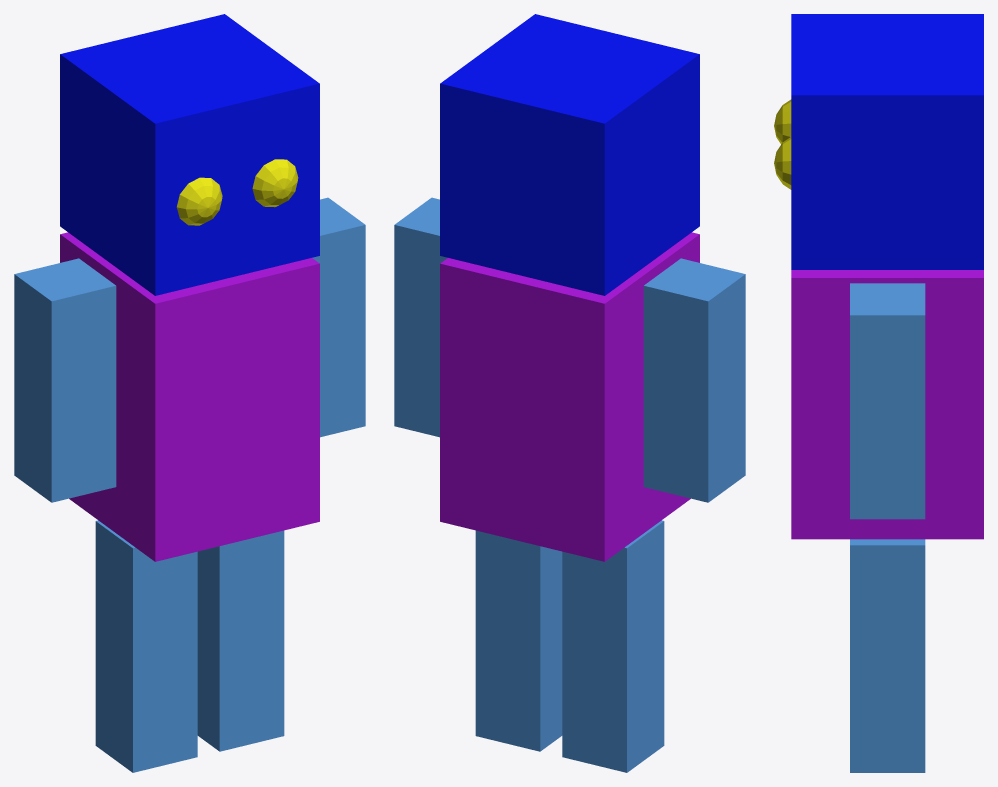
The model's file is Roboto.fbx.
3 views of the same model, side by side, from view 1: azimuth 30°, elevation 25°; view 2: azimuth 150°, elevation 25°; view 3: azimuth 270°, elevation 25° (orthographic).
Parts seen in each view (by area): view 1: Cube; view 2: Cube; view 3: Cube.
Part boxes in pixels (box(x1,y1,x2,y2)): Cube: box(14, 14, 365, 772); Cube: box(394, 14, 745, 772); Cube: box(774, 14, 983, 772).
Bounding box in the file's own units: 381 × 780 × 218.
